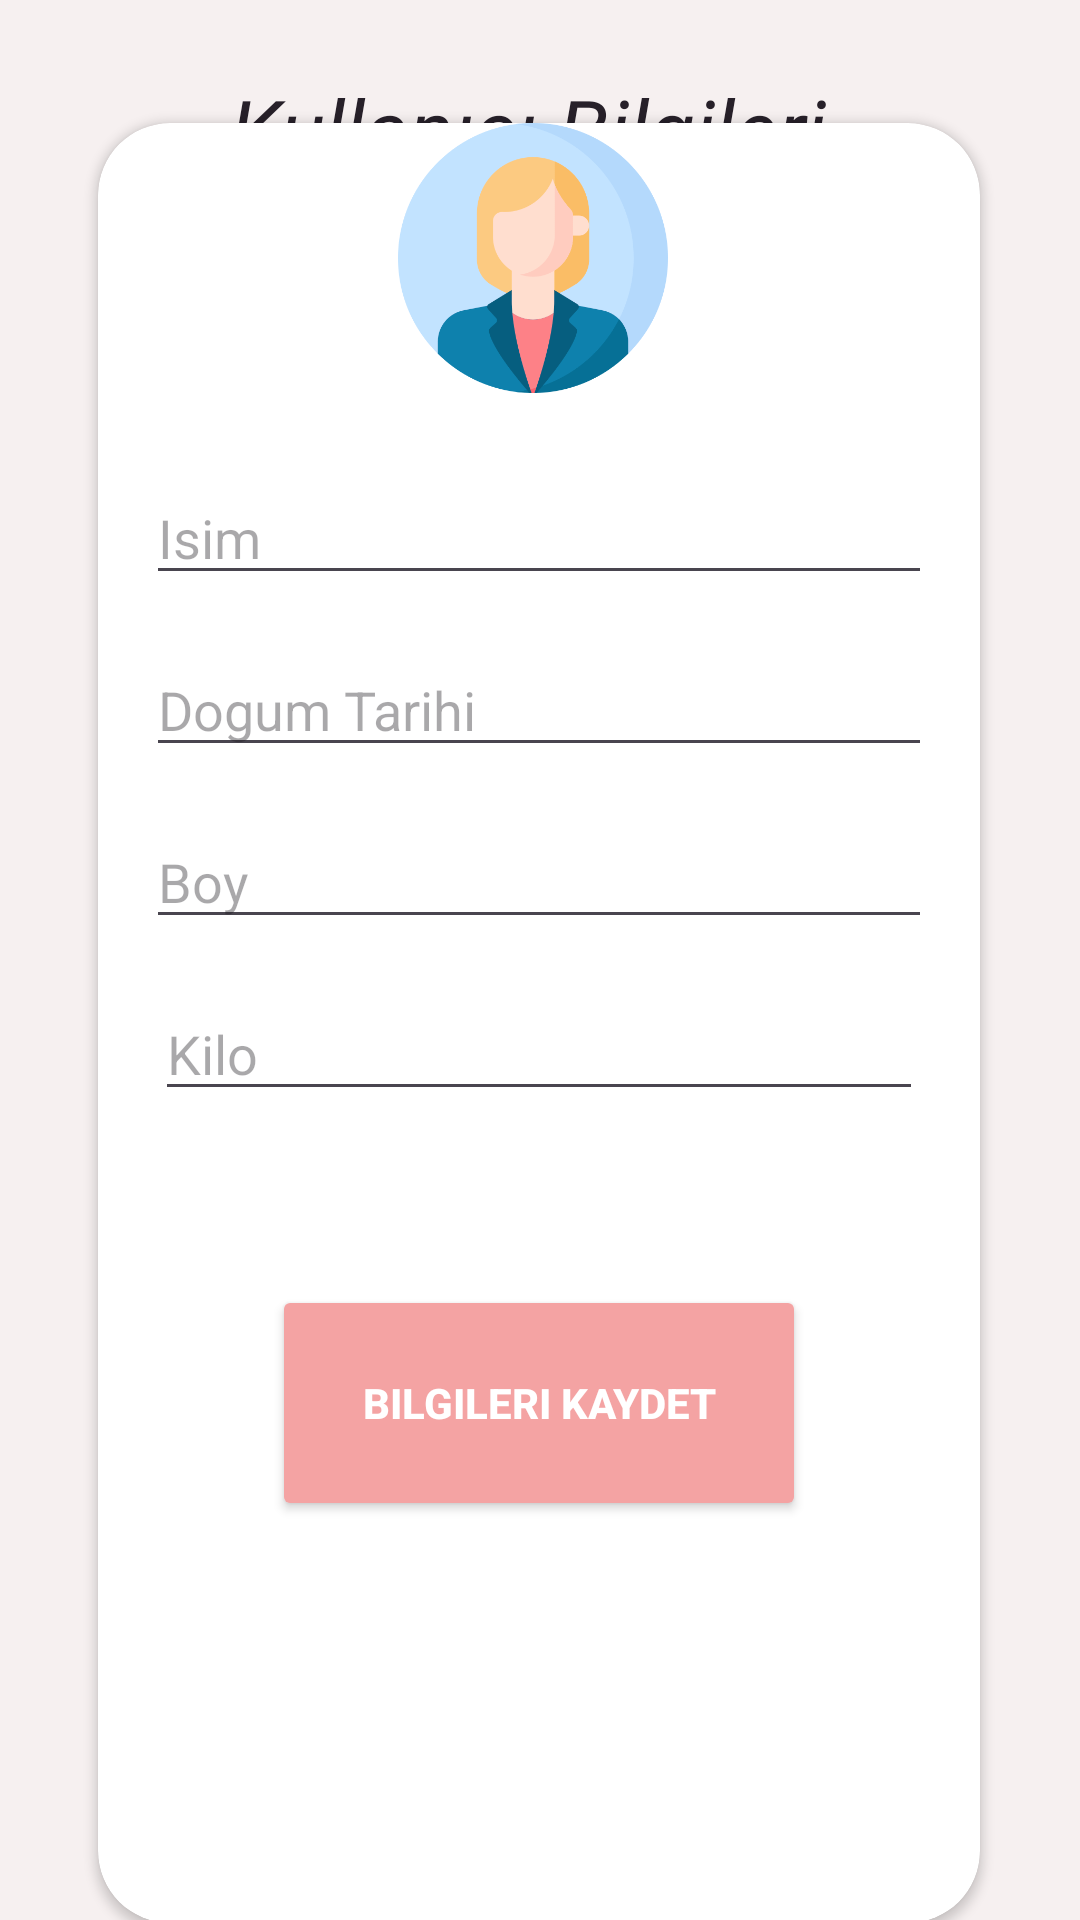

Icon bounding boxes for this 1080*1920 phone screenshot, format (x1, y1, x2, y2):
profile: (398, 123, 668, 393)
